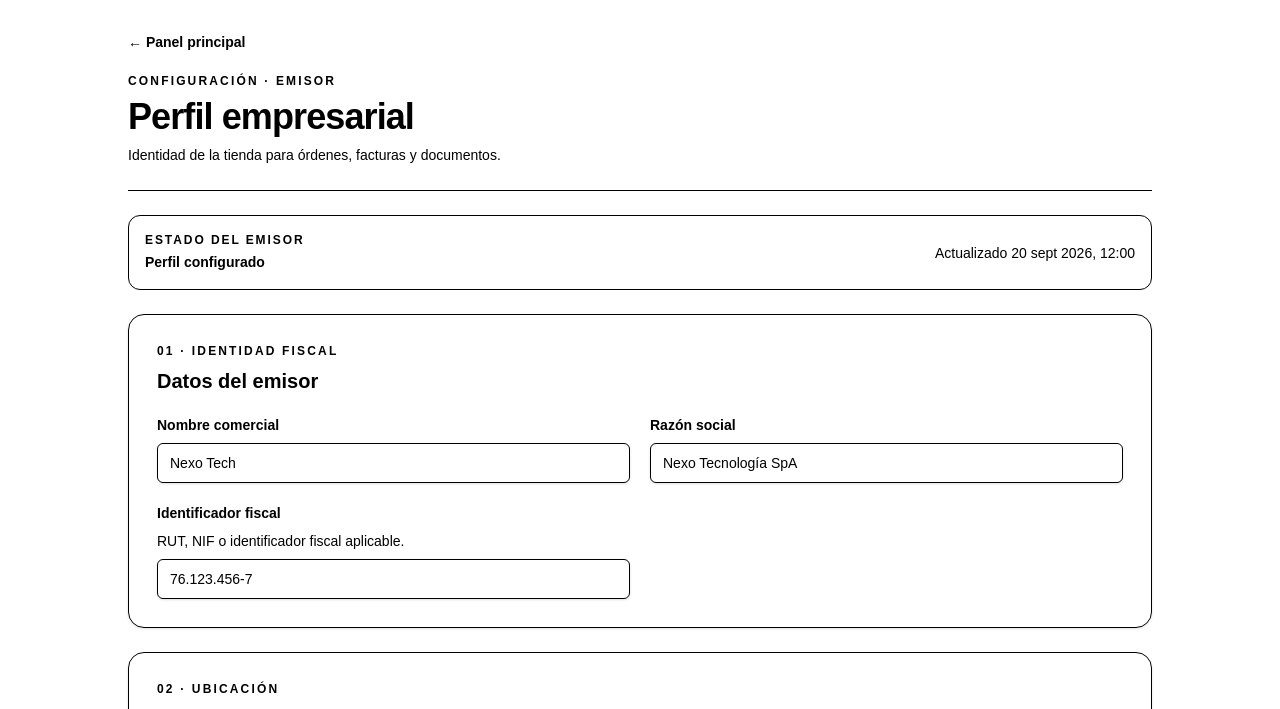
Test: perfil empresarial en backoffice › muestra el logo fijo y guarda los datos sin enviar una referencia editable
Expected: the field showing "Nexo Tecnología SpA" is shown, [650,443,1123,483]
Replace the text in the field labelled "Nombre comercial" with "Nexo Plus" at (394, 463), box [157,443,630,483]
(page scrolled)
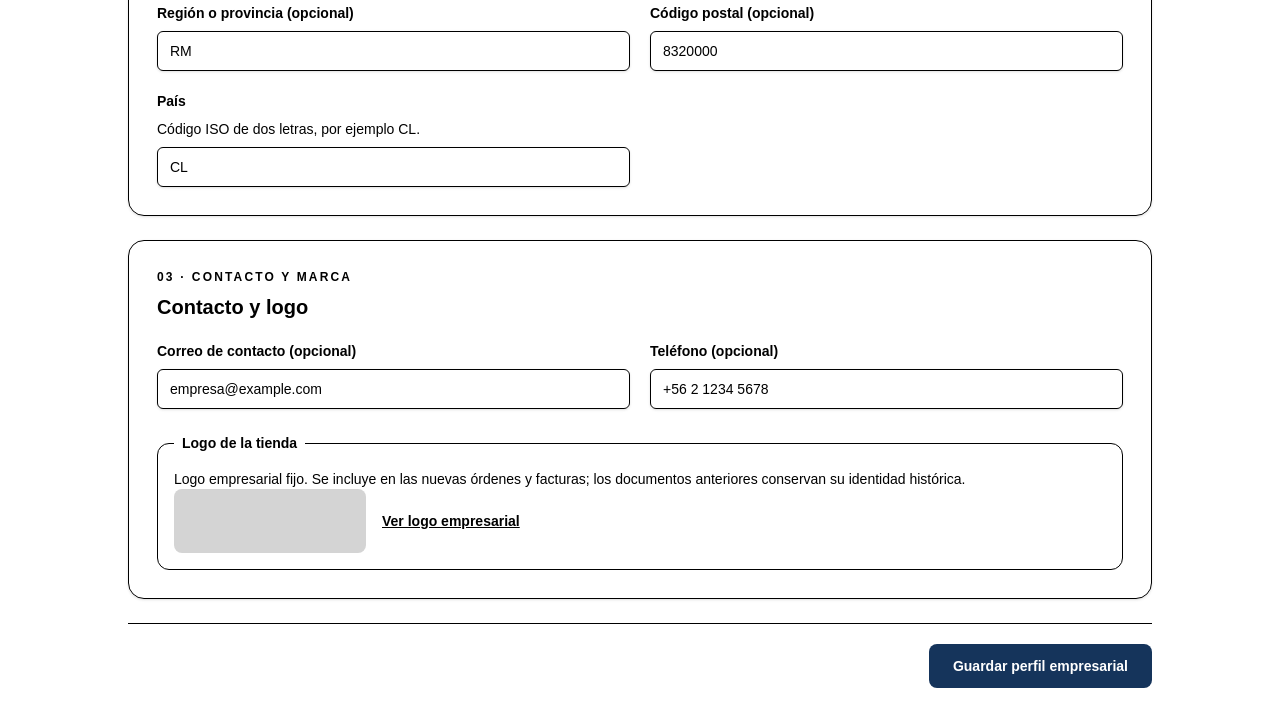
Click the button "Guardar perfil empresarial" at (1040, 666), box [929,644,1152,688]
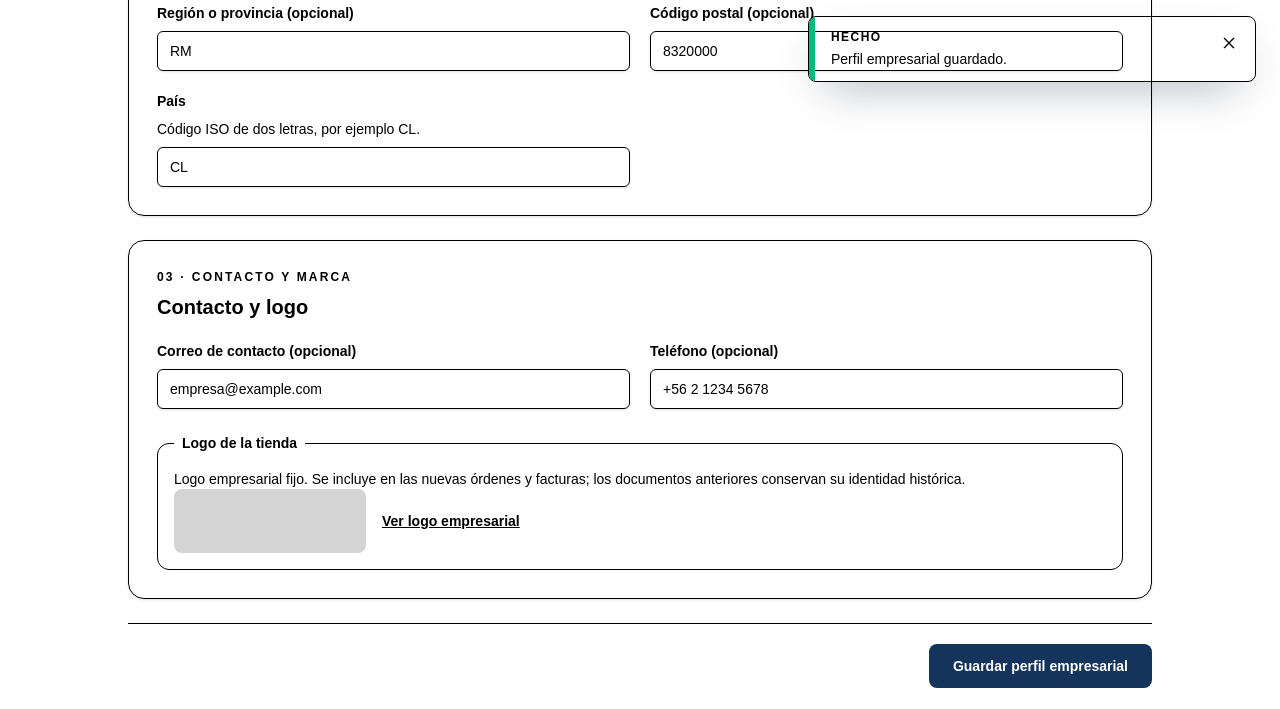
Now the text "Perfil empresarial guardado." is shown, box [831,51,1007,67]
